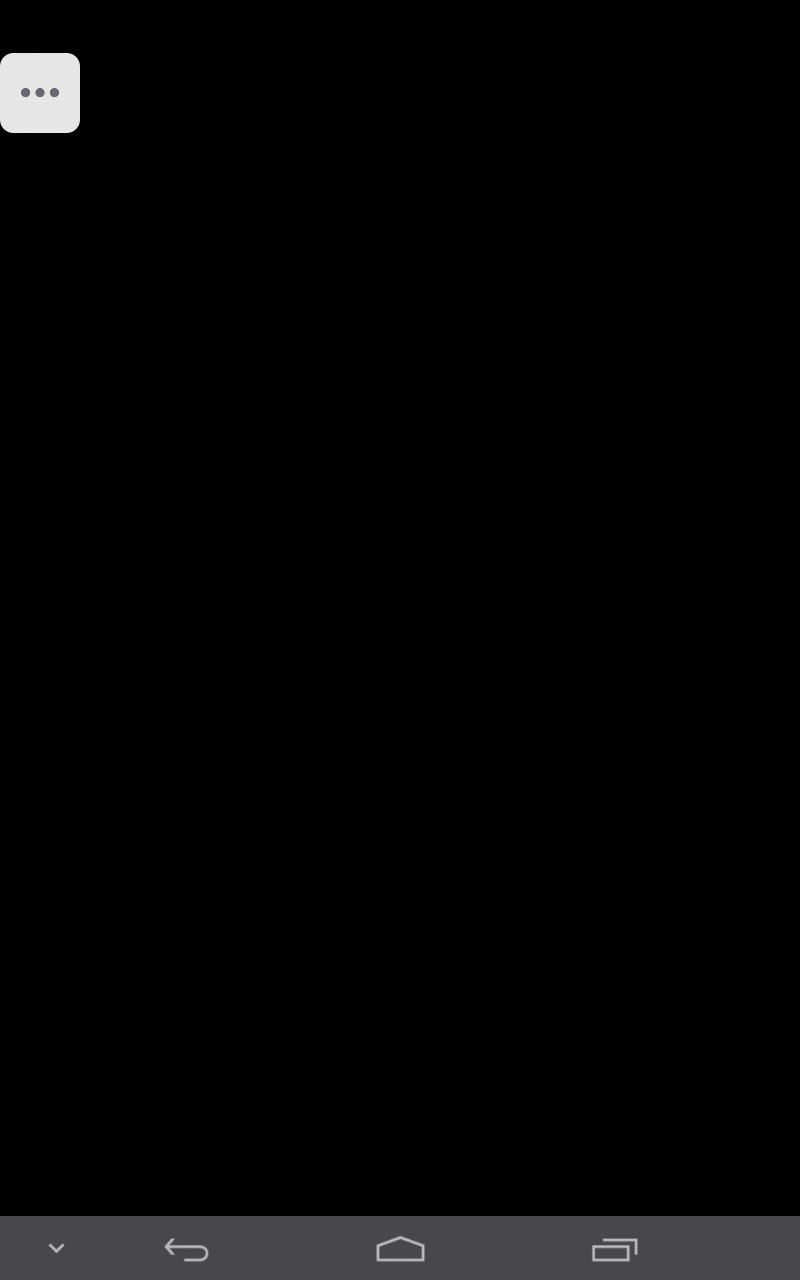imgbutton: (1, 45, 85, 142)
